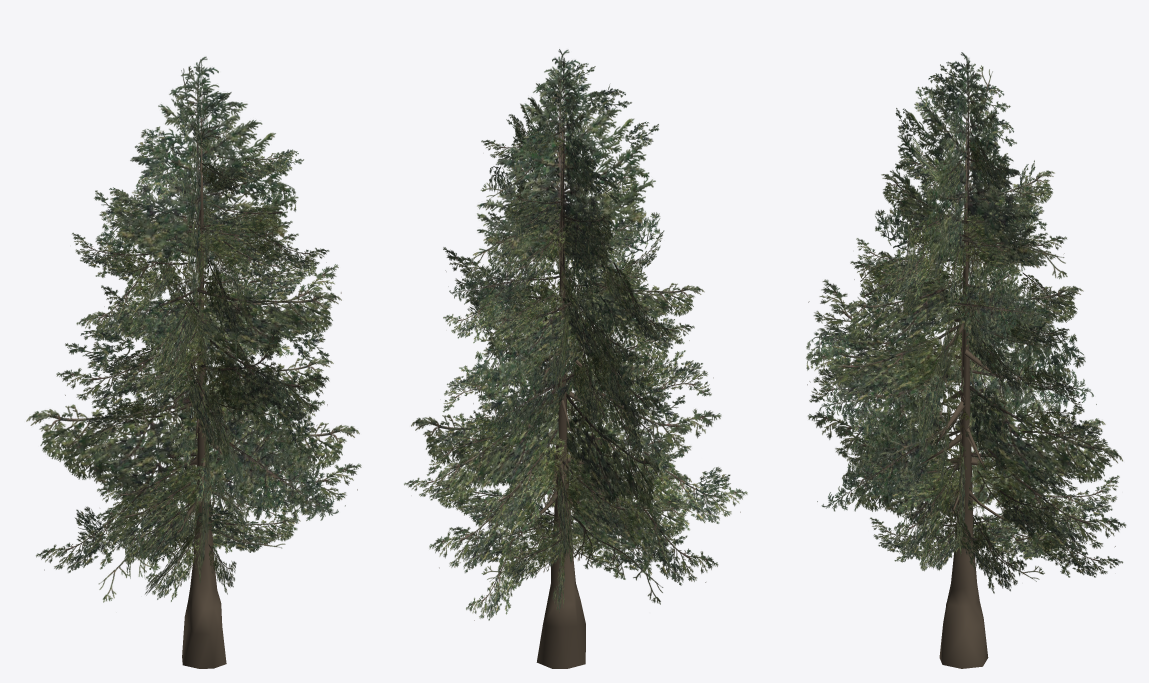
File: cypress_b.glb
The picture shows the model from 3 angles, left to right: view 1: azimuth 30°, elevation 25°; view 2: azimuth 150°, elevation 25°; view 3: azimuth 270°, elevation 25°; orthographic projection.
Parts seen in each view (by area): view 1: Tree_Branches_01.001_w; view 2: Tree_Branches_01.001_w; view 3: Tree_Branches_01.001_w.
Boxes of the visible parts, x1=… form: Tree_Branches_01.001_w: x1=26, y1=56, x2=361, y2=668; Tree_Branches_01.001_w: x1=404, y1=49, x2=747, y2=668; Tree_Branches_01.001_w: x1=806, y1=52, x2=1126, y2=668.
Size of the model in its own units: 6.86 by 12 by 6.34.
2 materials, 2 textured.
